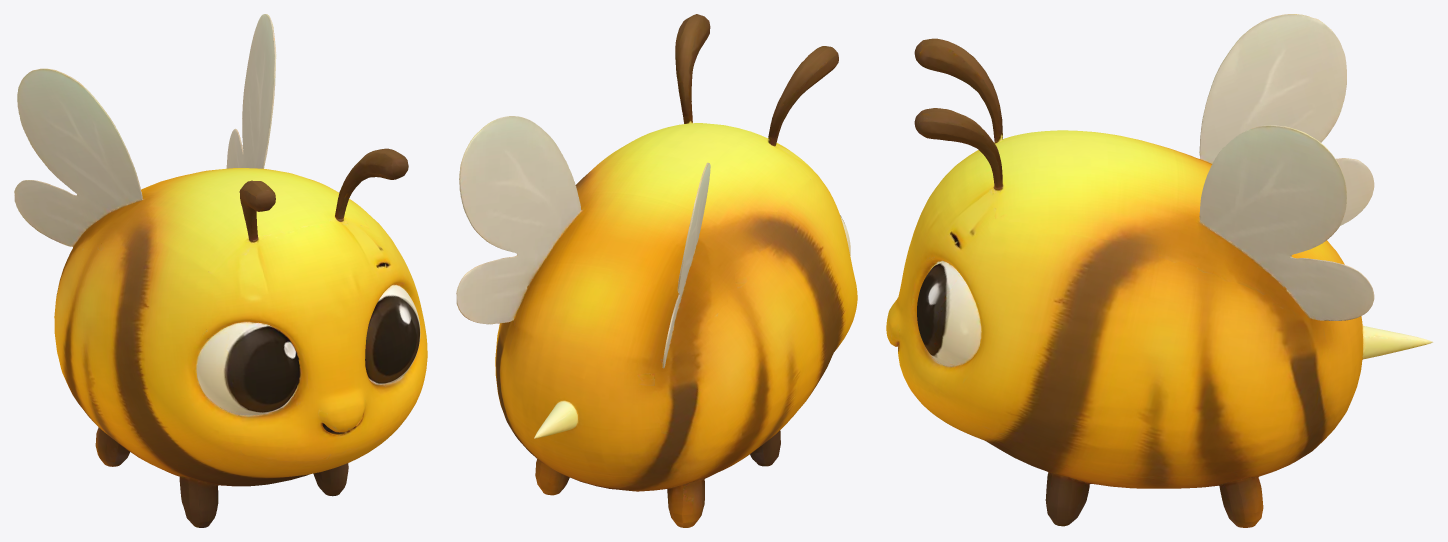
File: bee1-transformed.glb
The picture shows the model from 3 angles, left to right: view 1: azimuth 30°, elevation 25°; view 2: azimuth 150°, elevation 25°; view 3: azimuth 270°, elevation 25°; orthographic projection. The views are drawn at different scales.
Parts seen in each view (by area): view 1: model; view 2: model; view 3: model.
Part boxes in pixels (left/top/right/bottom): model: left=14, top=14, right=427, bottom=527; model: left=456, top=14, right=857, bottom=527; model: left=886, top=14, right=1433, bottom=527.
Bounding box in the file's own units: 1.19 × 1.6 × 1.9.
Materials: 1 (1 with a texture image).
